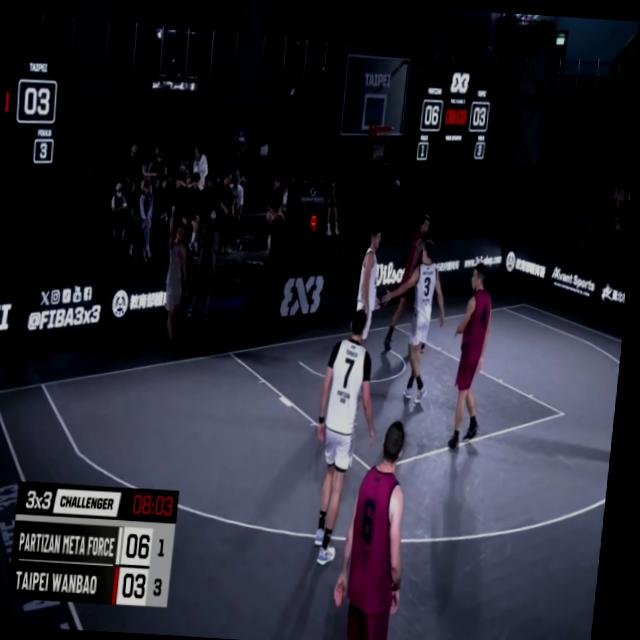hoop: (366, 119, 395, 165)
player: (307, 300, 392, 570), (334, 412, 430, 640), (373, 233, 456, 409), (447, 258, 500, 451), (387, 198, 450, 355), (350, 220, 392, 367)
